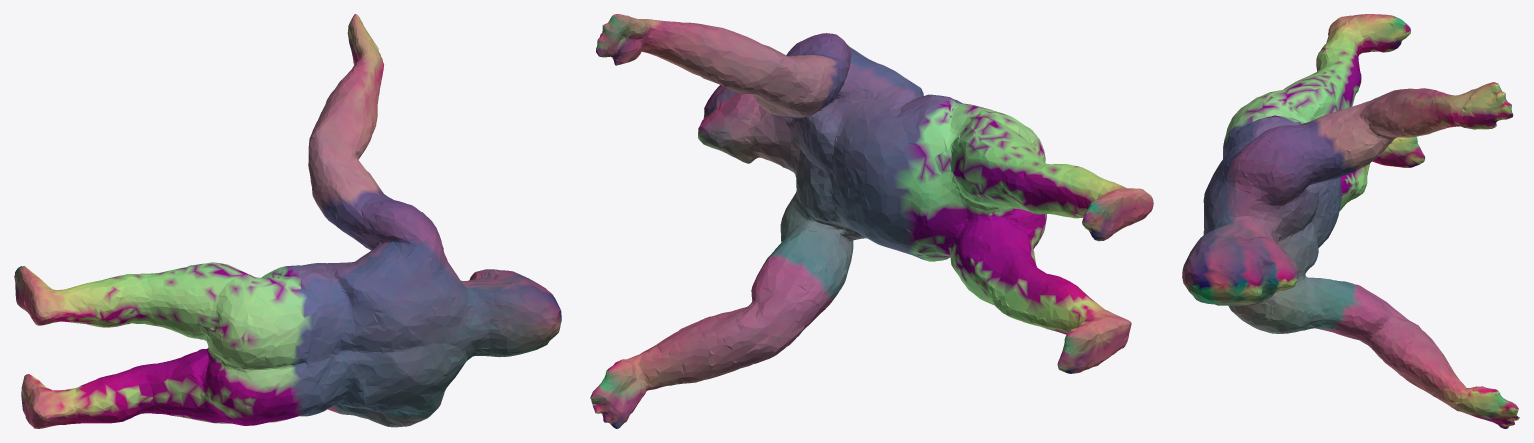
File: gorilla-10.off.obj
3 renders of one model, left to right at view 1: azimuth 30°, elevation 25°; view 2: azimuth 150°, elevation 25°; view 3: azimuth 270°, elevation 25°, orthographic. The views are drawn at different scales.
Size of the model in its own units: 1.4 by 1.1 by 0.9653.
